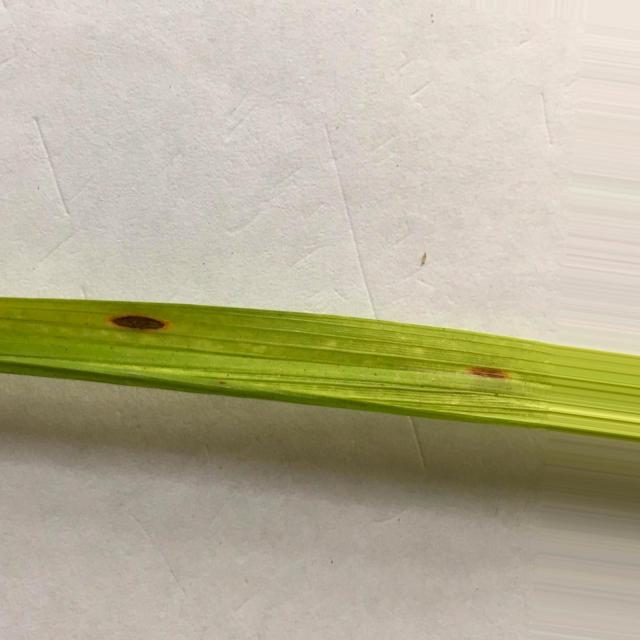Brown_Spot: (111, 315, 165, 330), (468, 366, 509, 379)
